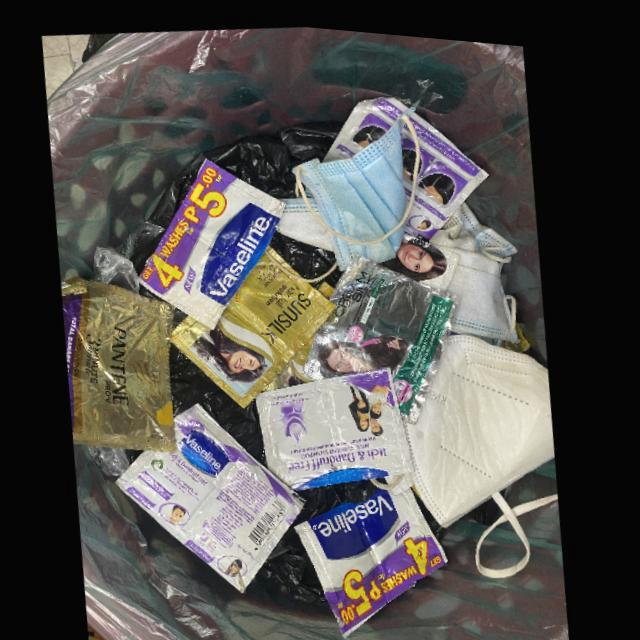plastic_sachet: (119, 400, 308, 589), (305, 245, 464, 416), (173, 246, 338, 403), (141, 154, 288, 325), (324, 87, 489, 234), (298, 479, 453, 631), (63, 274, 180, 449), (259, 359, 418, 484)
